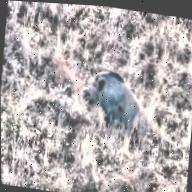boar: (76, 55, 163, 164)
